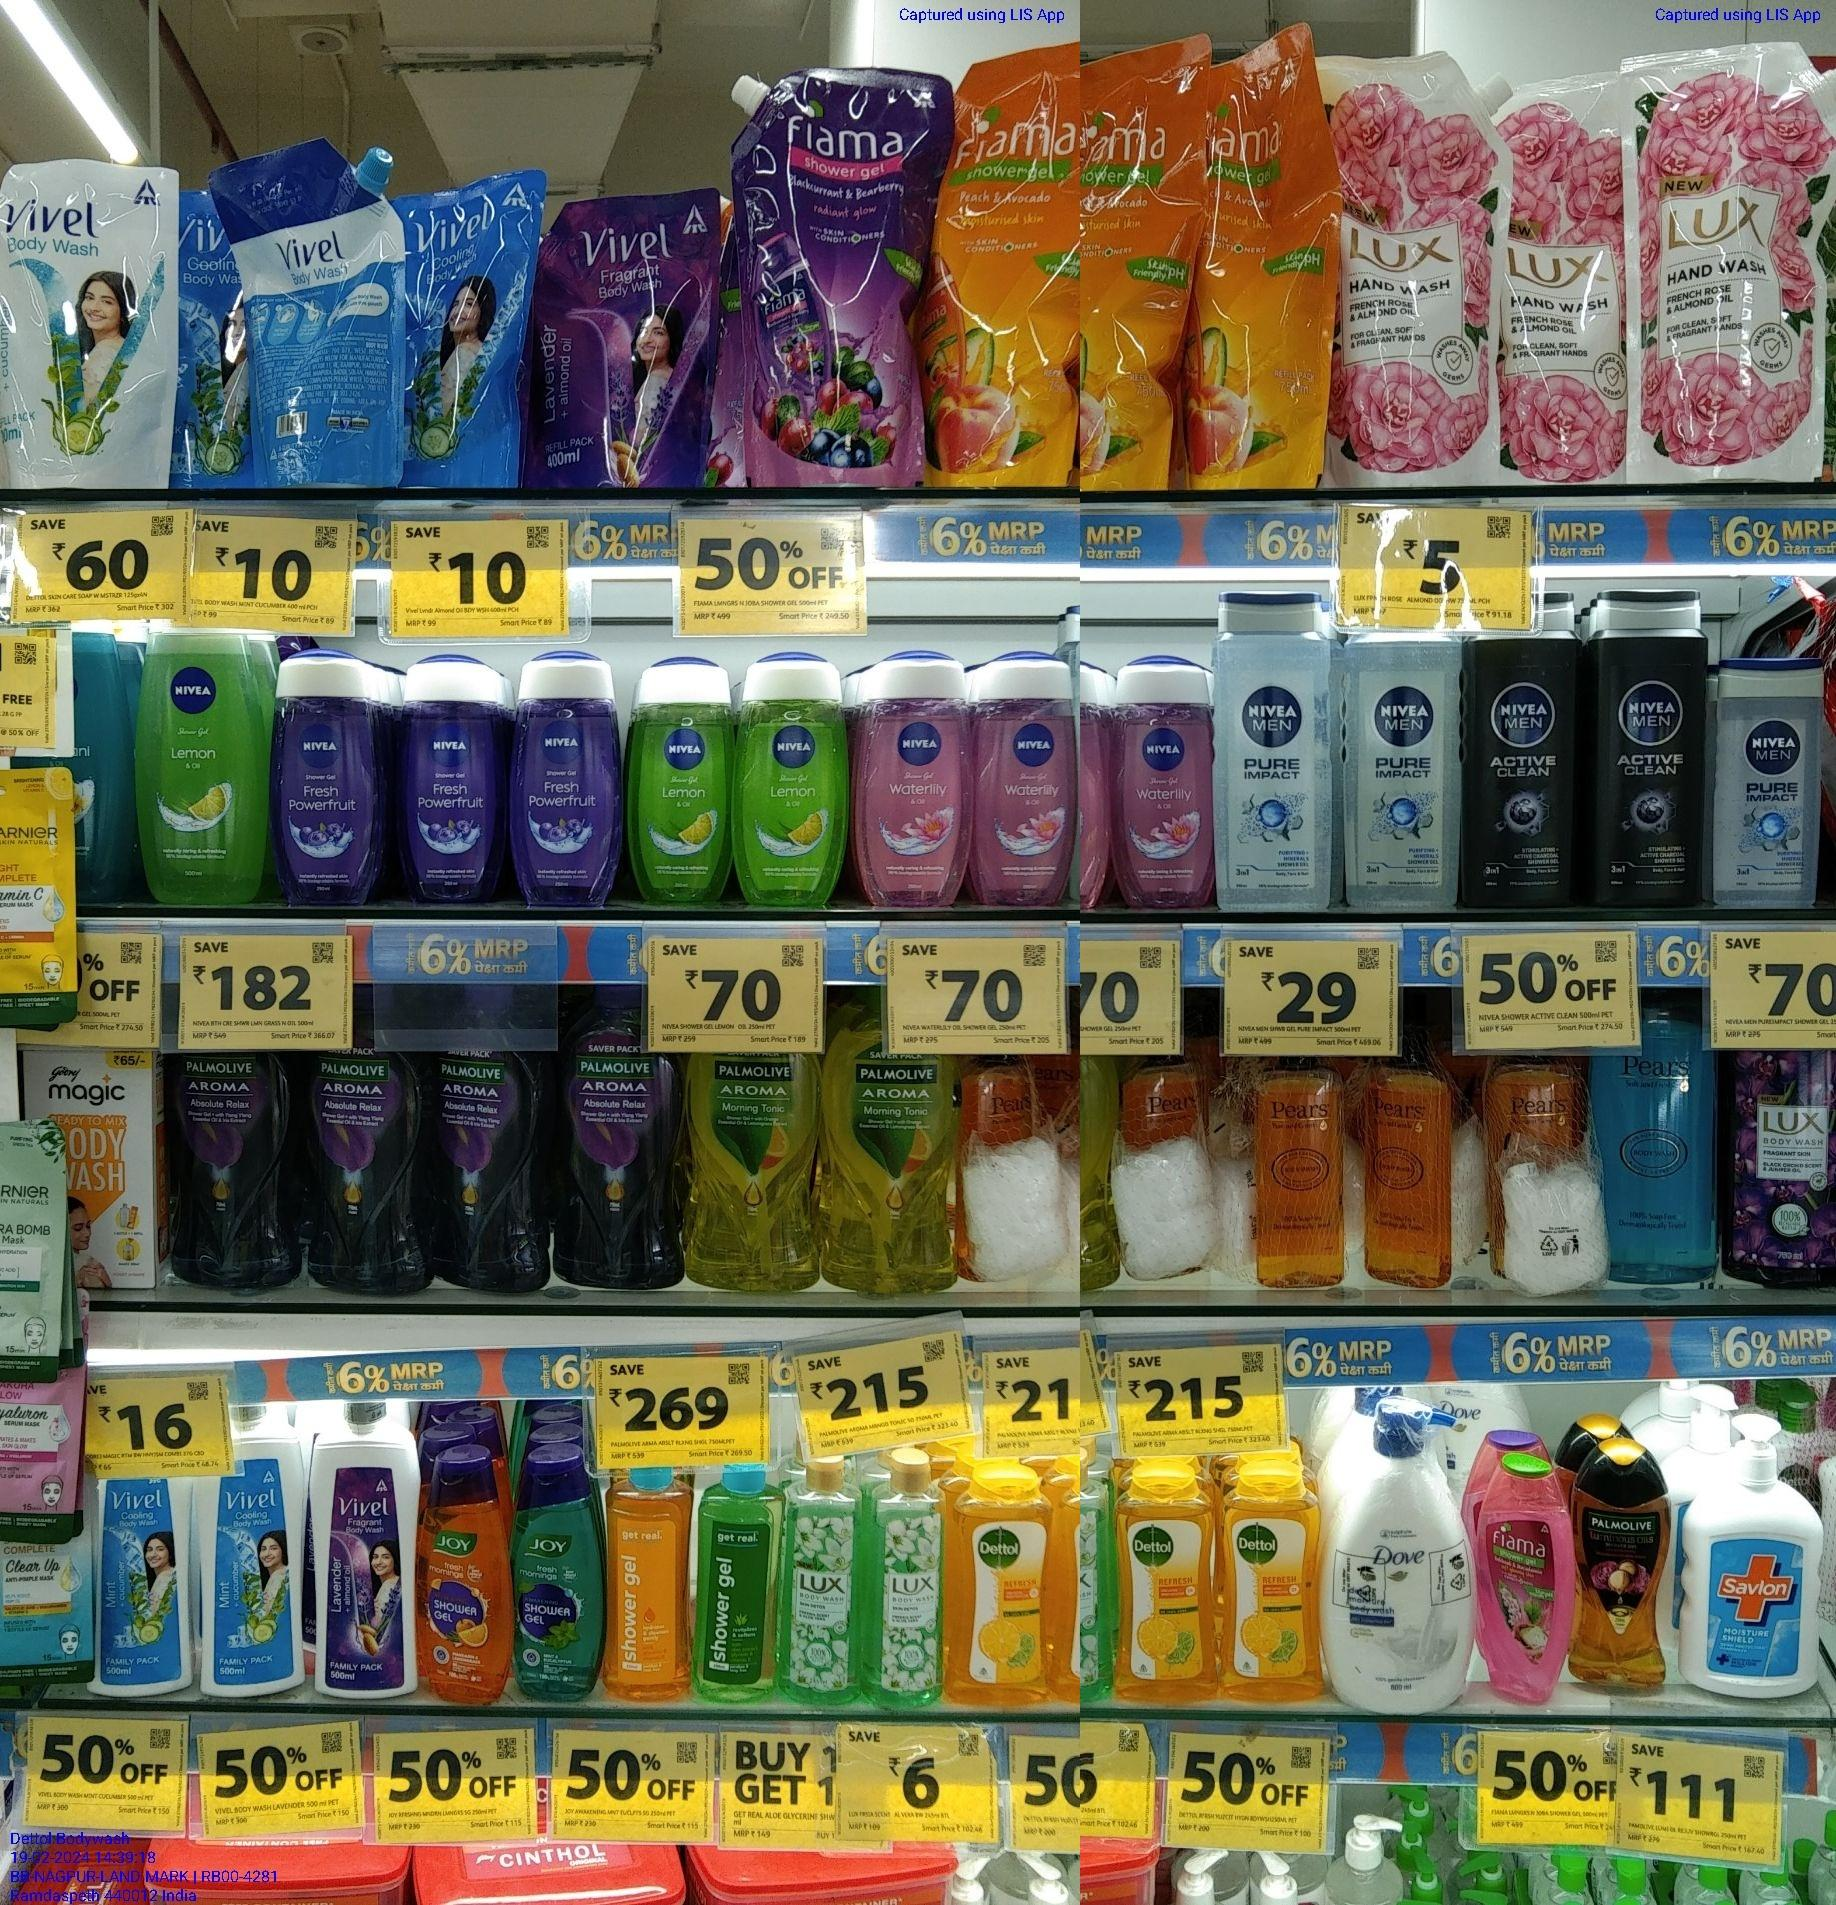Dettol_Bodywash_Refresh: (1222, 1461, 1324, 1704), (953, 1464, 1053, 1704), (1115, 1470, 1208, 1703)
Fiama_Shower_Gel_Patchouli_and_Macadamia_250ML: (1480, 1454, 1574, 1699)
Get_Real_Shower_Gel_Moisturising_Glycerin_300ML: (606, 1468, 694, 1701)
Joy_Shower_Gel_Mandarin_and_Lemongrass_250ML: (420, 1439, 512, 1701)
Joy_Shower_Gel_Mint_and_Eucalyptus_250ML: (516, 1447, 599, 1699)
Lux_Body_Wash_Skin_Detox_Freesia_Scent_and_Alove_Vera_245ML: (866, 1456, 943, 1703), (788, 1458, 859, 1701)
Nivea_Shower_Gel_Fresh_Powerfruit_250ML: (272, 643, 379, 917), (512, 646, 618, 908), (396, 658, 499, 898)
Nivea_Shower_Gel_Lemon_and_Oil_250ML: (140, 617, 269, 896), (626, 655, 730, 907), (742, 658, 846, 907)
Nivea_Shower_Gel_Waterlily_and_Oil_250ML: (856, 651, 973, 912), (977, 651, 1079, 905), (1108, 658, 1213, 903)
